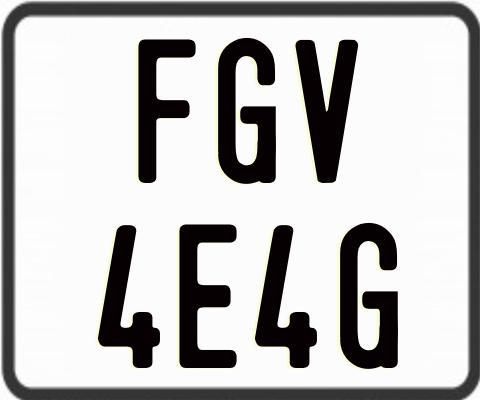4: (252, 223, 318, 372), (95, 225, 159, 369)
E: (176, 221, 235, 366)
F: (137, 37, 195, 181)
G: (337, 221, 399, 372), (215, 37, 277, 184)
V: (293, 37, 361, 186)
